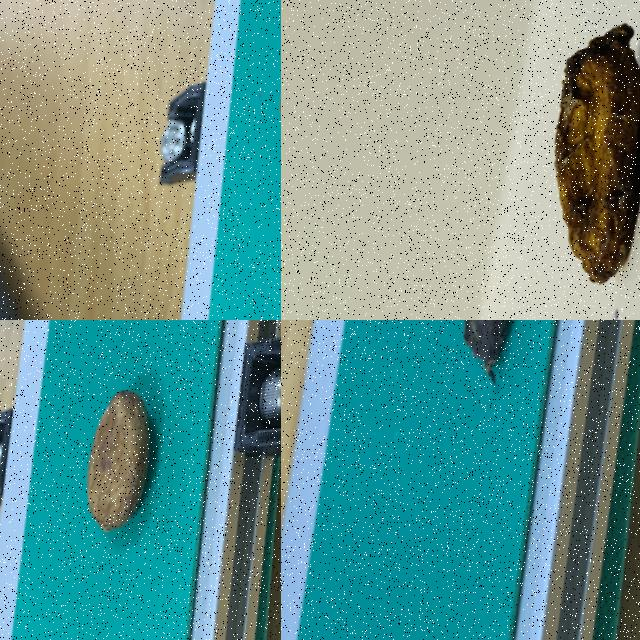Fine_cocoabeans: (57, 364, 189, 578)
Flat_cocoabeans: (511, 0, 639, 312), (389, 320, 575, 455)
